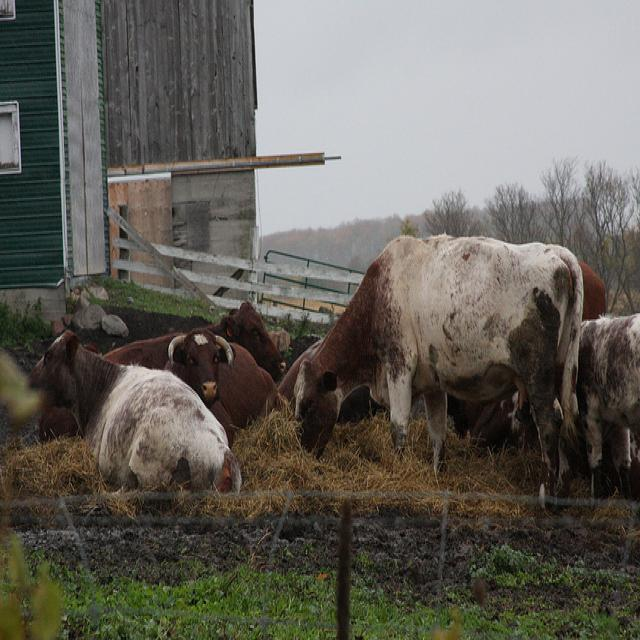cow: (291, 228, 583, 513), (22, 334, 244, 492), (101, 300, 286, 375), (165, 327, 279, 438), (572, 310, 639, 498), (579, 259, 605, 315)
